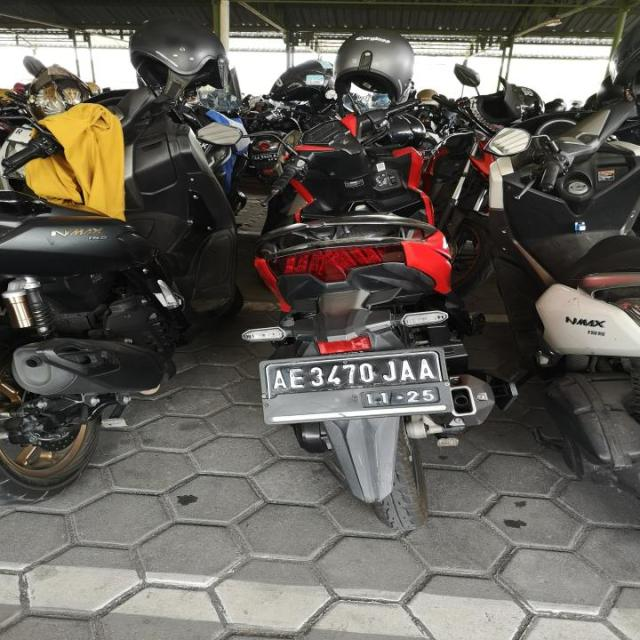License Plate: (263, 350, 444, 424)
